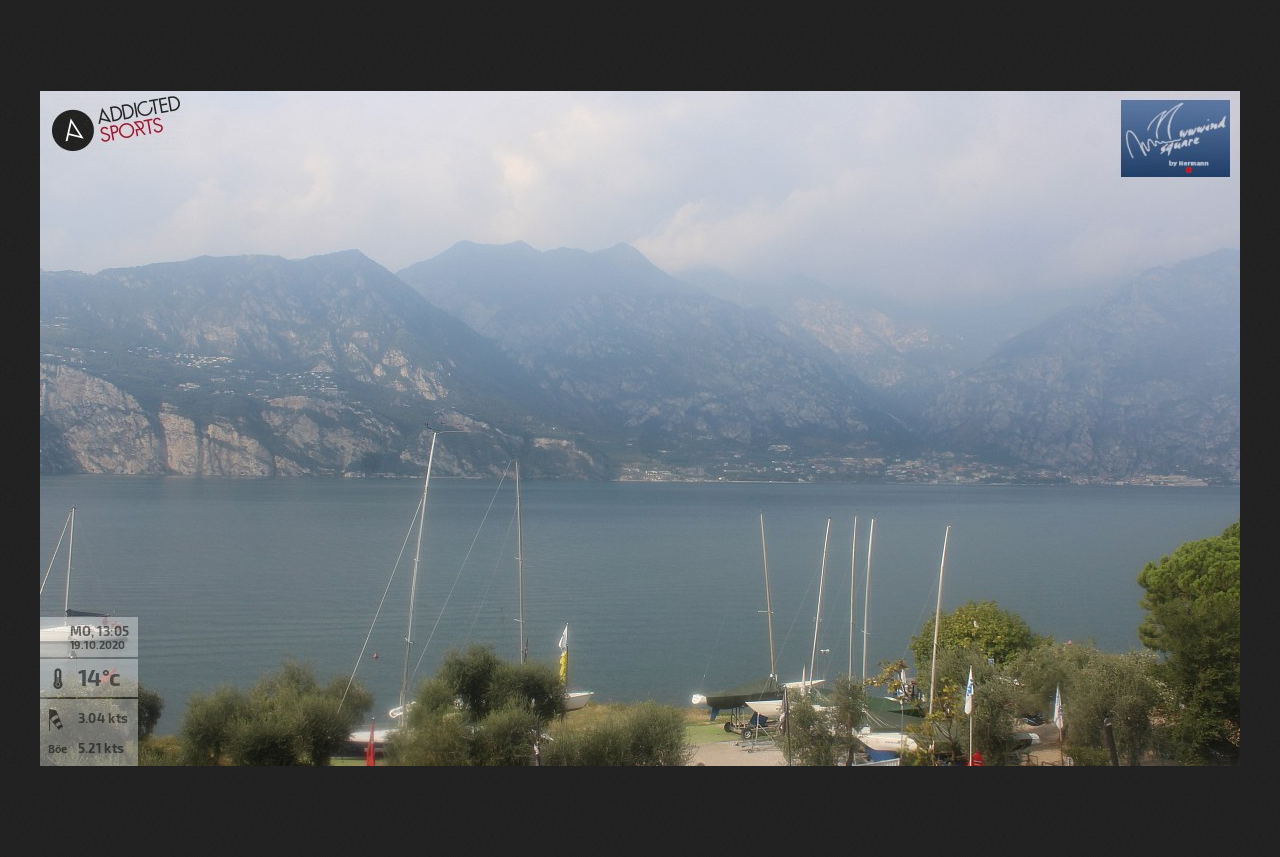no: (1048, 677, 1070, 733), (960, 661, 979, 715), (556, 647, 571, 687), (558, 617, 571, 656)
